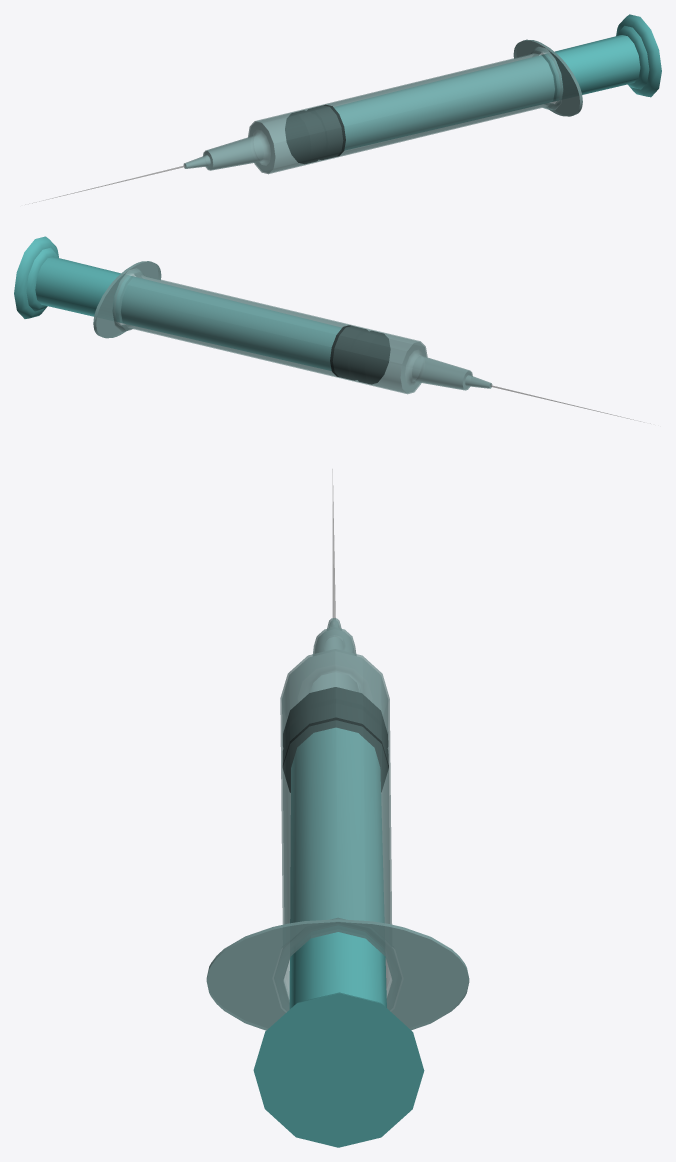
File: syringe-triangle.obj
3 views of the same model, one above another, from view 1: azimuth 30°, elevation 25°; view 2: azimuth 150°, elevation 25°; view 3: azimuth 270°, elevation 25° (orthographic). The views are drawn at different scales.
Visible parts, largest first — view 1: sy_Shape_1; view 2: sy_Shape_1; view 3: sy_Shape_1.
Part boxes in pixels (left/top/right/bottom): sy_Shape_1: left=32, top=14, right=661, bottom=203; sy_Shape_1: left=14, top=236, right=640, bottom=421; sy_Shape_1: left=206, top=469, right=469, bottom=1147.
Bounding box in the file's own units: 13.68 × 1.62 × 2.49.
